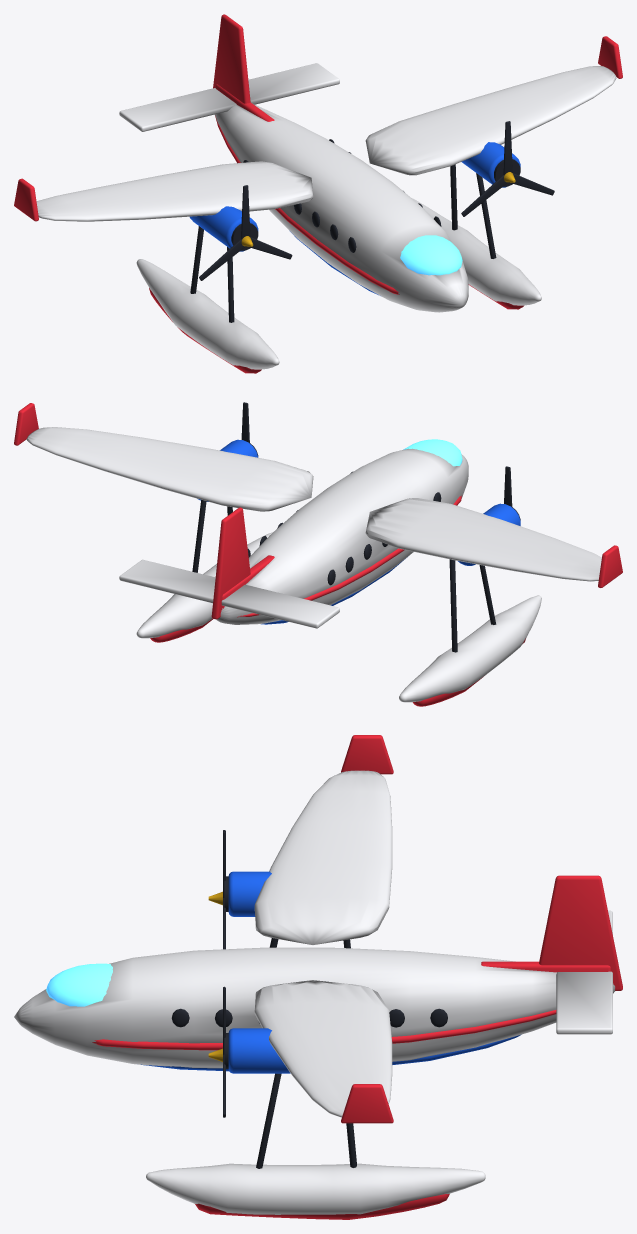
3 renders of one model, top to bottom at view 1: azimuth 30°, elevation 25°; view 2: azimuth 150°, elevation 25°; view 3: azimuth 270°, elevation 25°, orthographic. The views are drawn at different scales.
Parts seen in each view (by area): view 1: Plane, Prop_L, Prop_R; view 2: Plane; view 3: Plane.
Boxes of the visible parts, <box> form: Plane: <box>14,14,622,373</box>; Prop_L: <box>199,185,292,280</box>; Prop_R: <box>461,121,554,216</box>; Plane: <box>14,403,622,706</box>; Plane: <box>14,735,622,1219</box>.
Size of the model in its own units: 13.92 by 4.86 by 10.18.
